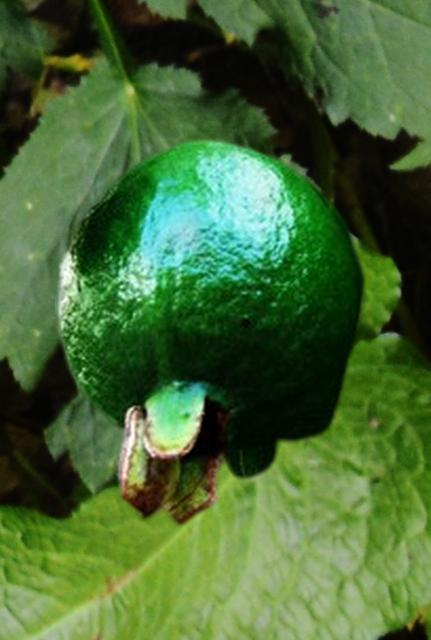guava: (55, 136, 367, 526)
